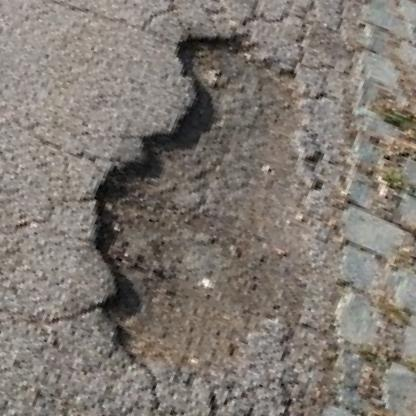pothole: (37, 5, 412, 416)
